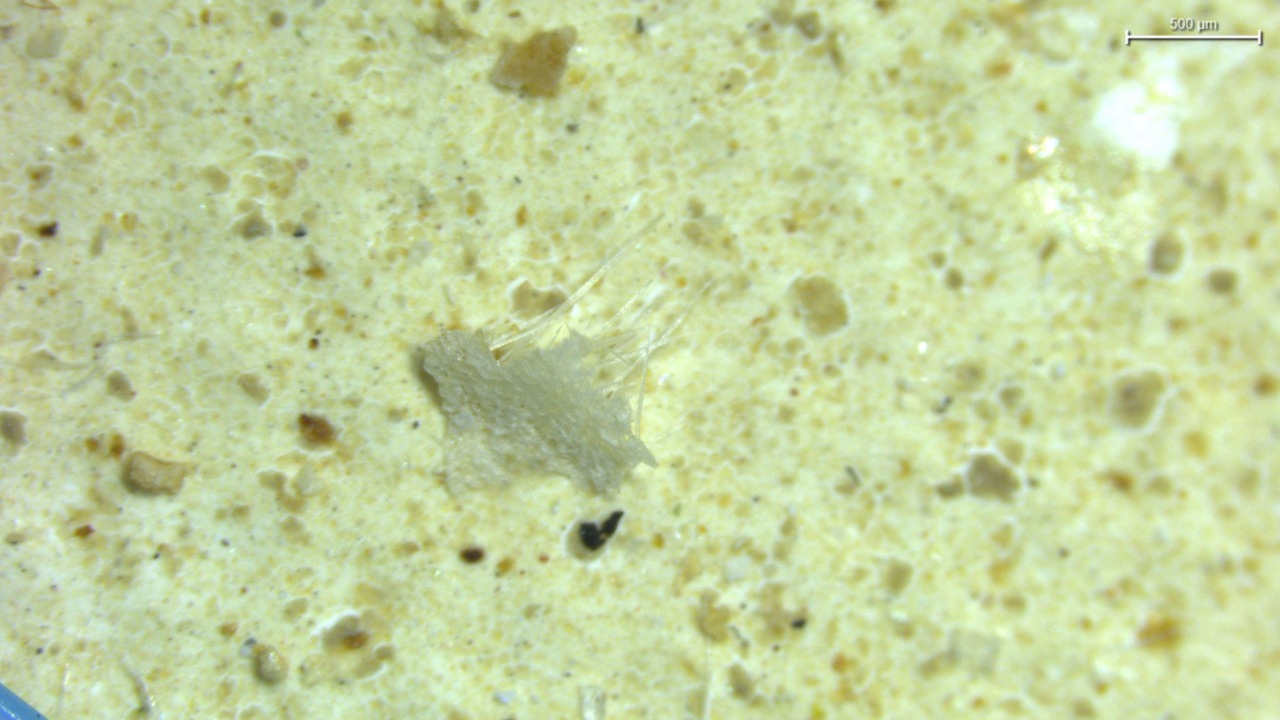microplastic_fragment: (418, 331, 655, 494)
